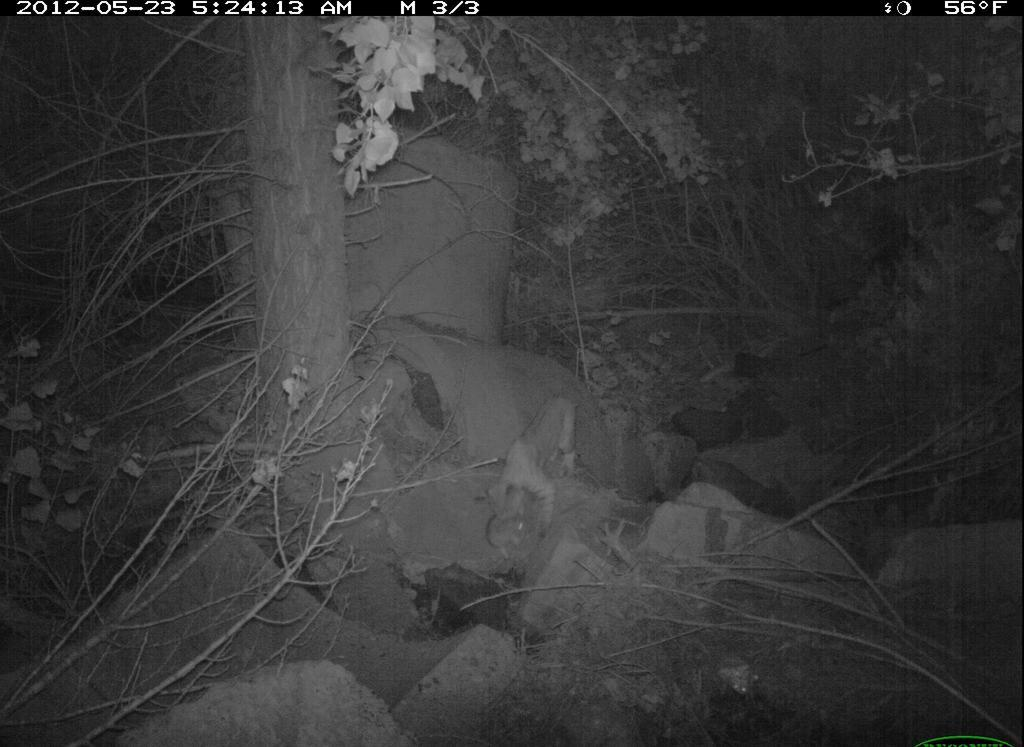rabbit: (480, 509, 533, 562)
